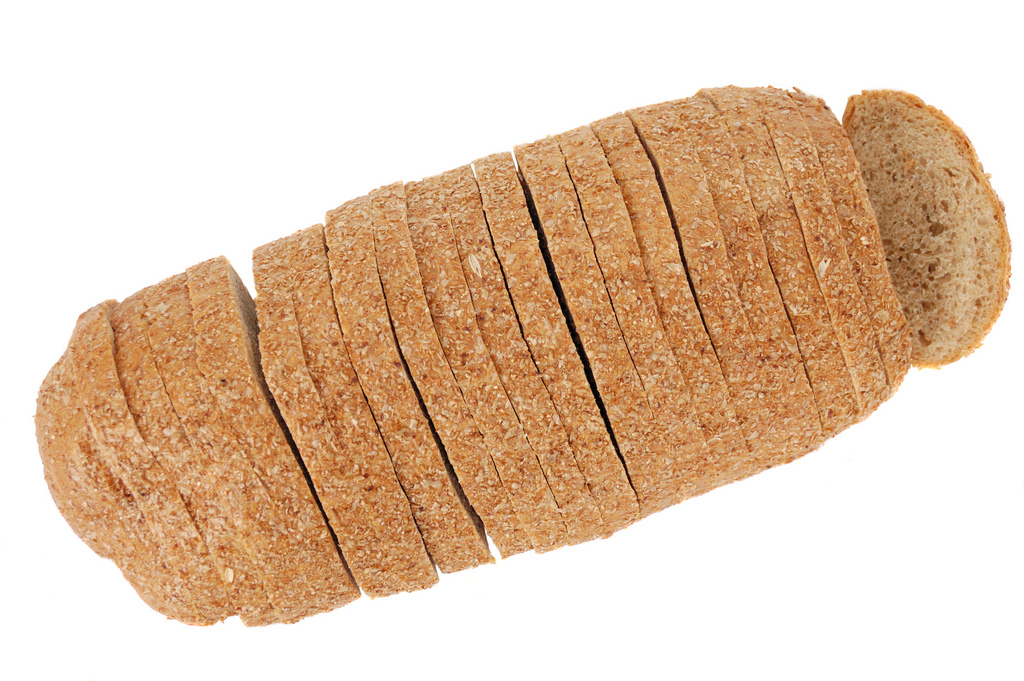slice of bread: (54, 64, 824, 651), (842, 81, 1015, 375)
